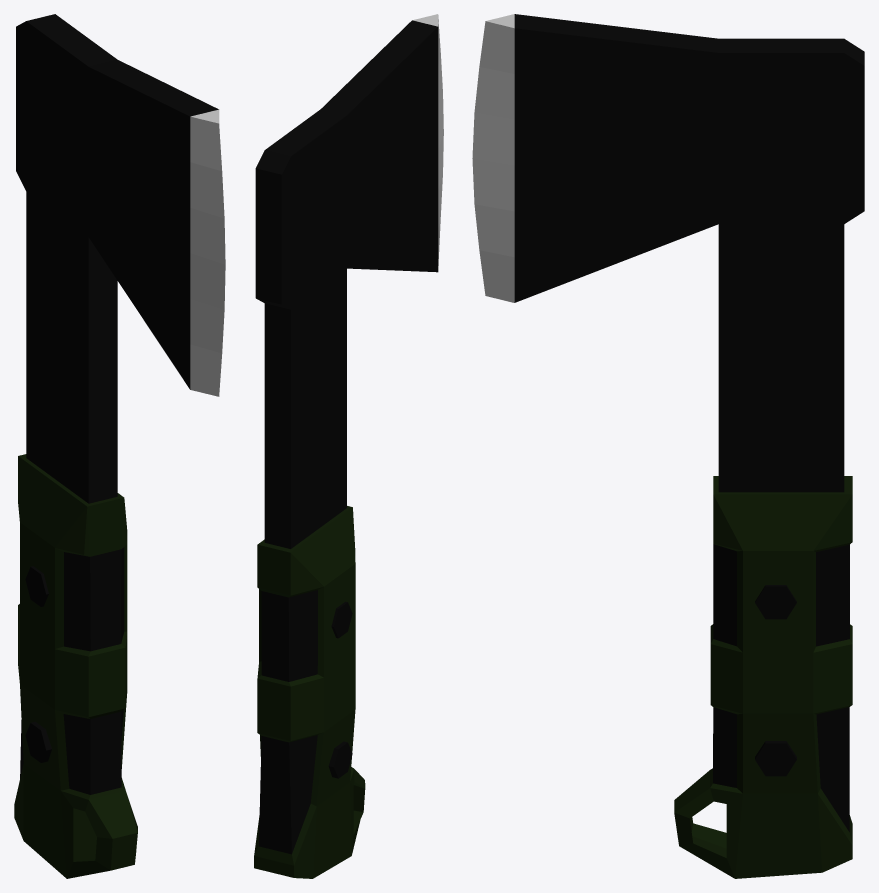
The model's file is Hand Axe.obj.
3 renders of one model, left to right at view 1: azimuth 30°, elevation 25°; view 2: azimuth 150°, elevation 25°; view 3: azimuth 270°, elevation 25°, orthographic. The views are drawn at different scales.
Visible parts, largest first — view 1: Hand_Axe_Plane.005; view 2: Hand_Axe_Plane.005; view 3: Hand_Axe_Plane.005.
Part boxes in pixels (x1=…): Hand_Axe_Plane.005: x1=14, y1=14, x2=225, y2=878; Hand_Axe_Plane.005: x1=254, y1=14, x2=443, y2=878; Hand_Axe_Plane.005: x1=472, y1=14, x2=864, y2=878.
Bounding box in the file's own units: 0.0327 × 0.3371 × 0.1419.
